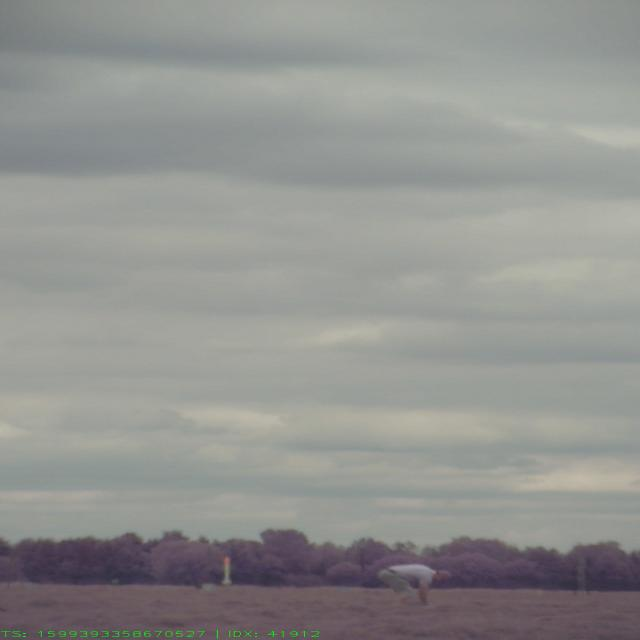Rocket: (221, 557, 232, 585)
